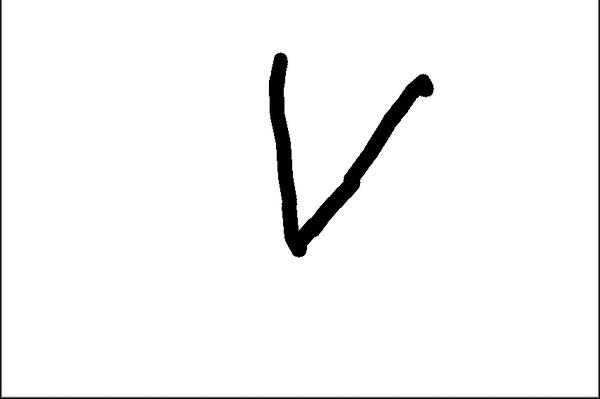V: (264, 47, 437, 261)
